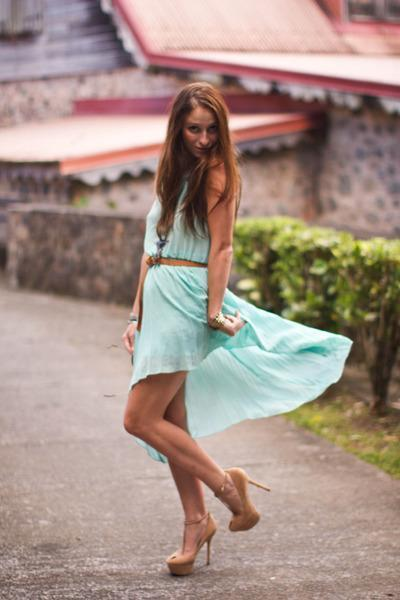dress: (122, 183, 352, 438)
shoe: (165, 472, 258, 580)
